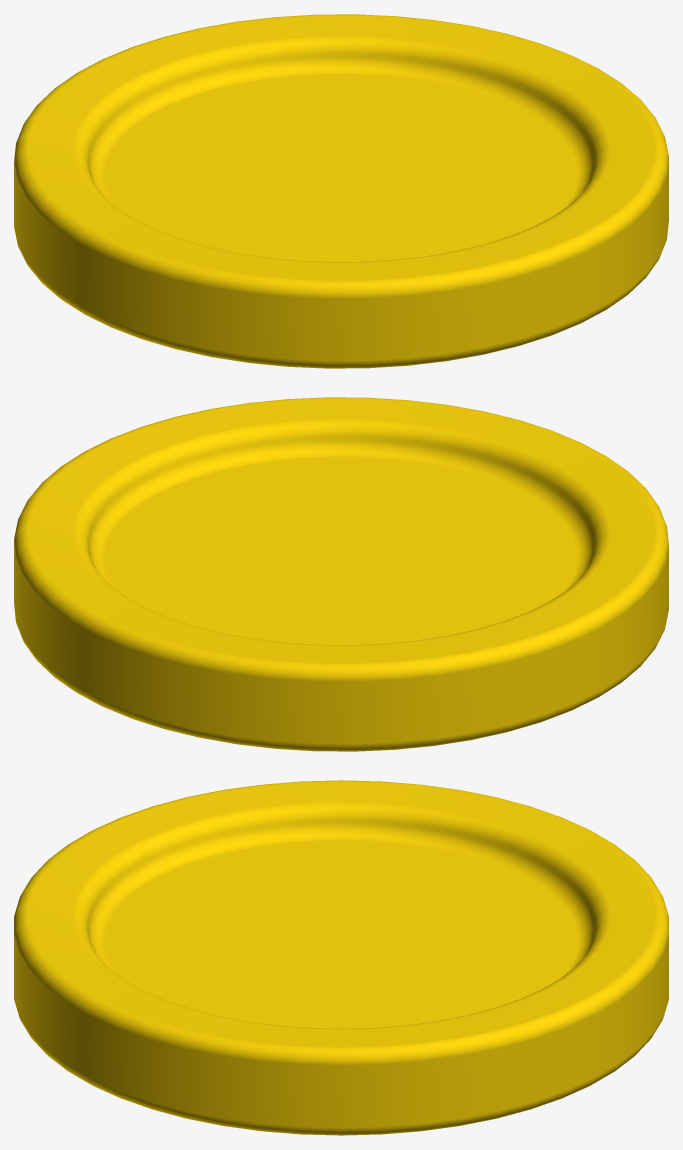
3 views of the same model, one above another, from view 1: azimuth 30°, elevation 25°; view 2: azimuth 150°, elevation 25°; view 3: azimuth 270°, elevation 25° (orthographic).
Parts seen in each view (by area): view 1: pCylinder7; view 2: pCylinder7; view 3: pCylinder7.
Part boxes in pixels (x1,y1,x2,y2): pCylinder7: [14, 14, 668, 368]; pCylinder7: [14, 397, 668, 751]; pCylinder7: [14, 780, 668, 1135].
Bounding box in the file's own units: 0.1972 × 0.0288 × 0.1968.
